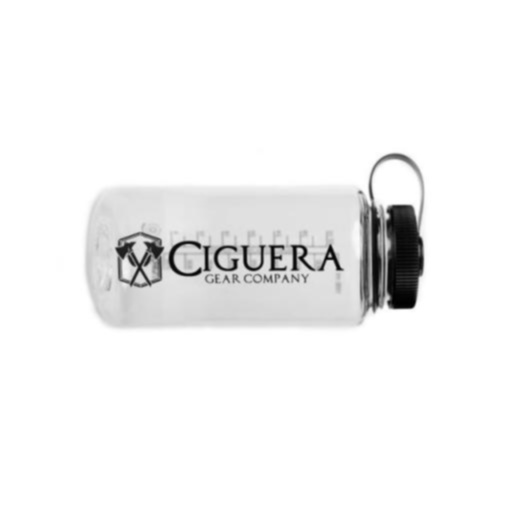bottle: (86, 150, 429, 329)
